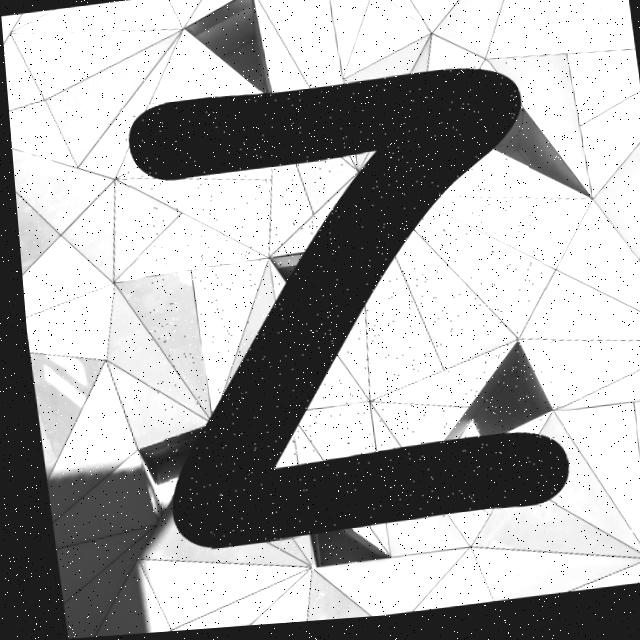Z: (127, 77, 559, 550)
